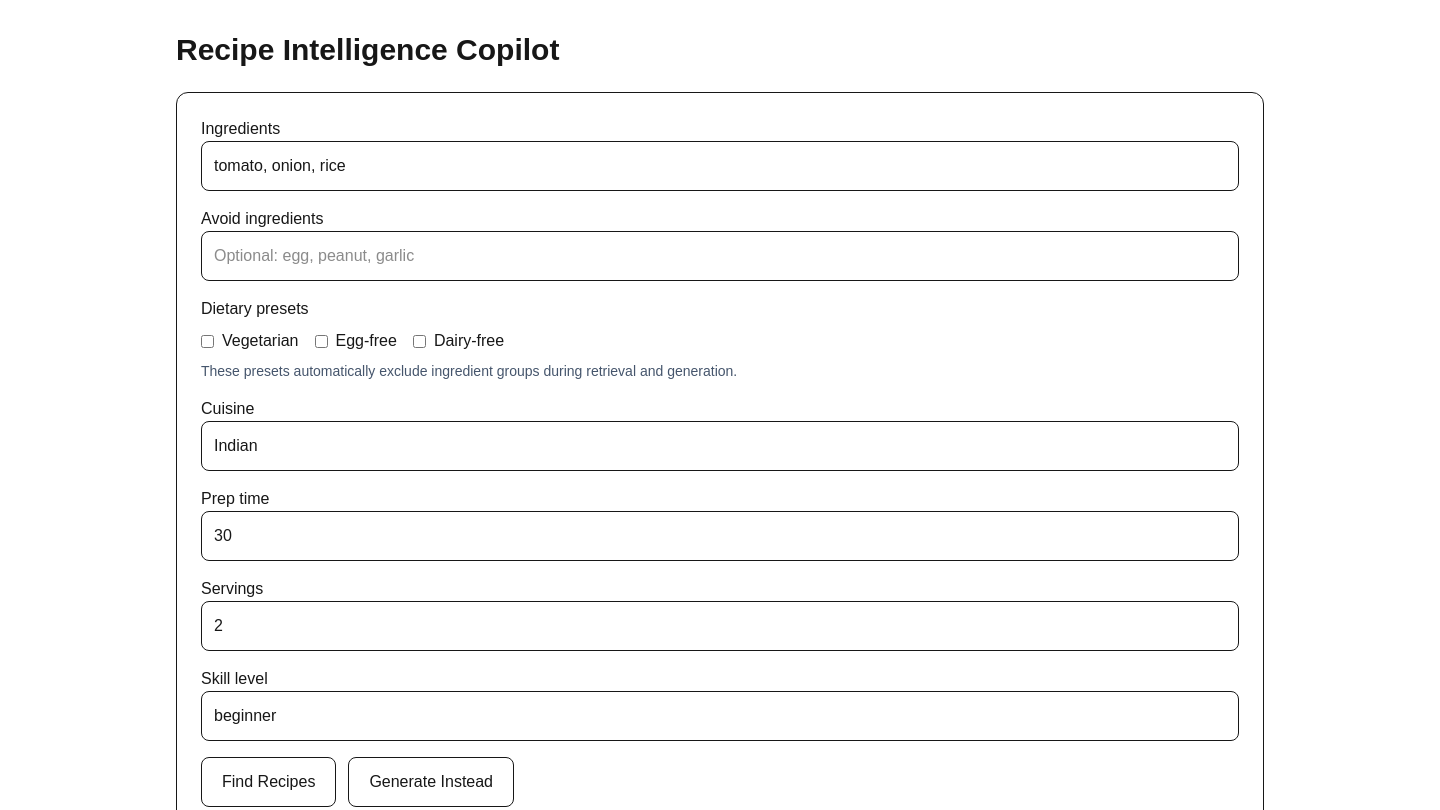
Test: Recipe page › shows template_only metadata for cheese toast
Replace the text in the field labelled "Ingredients" with "bread, cheese" at (720, 166), box [201,141,1239,191]
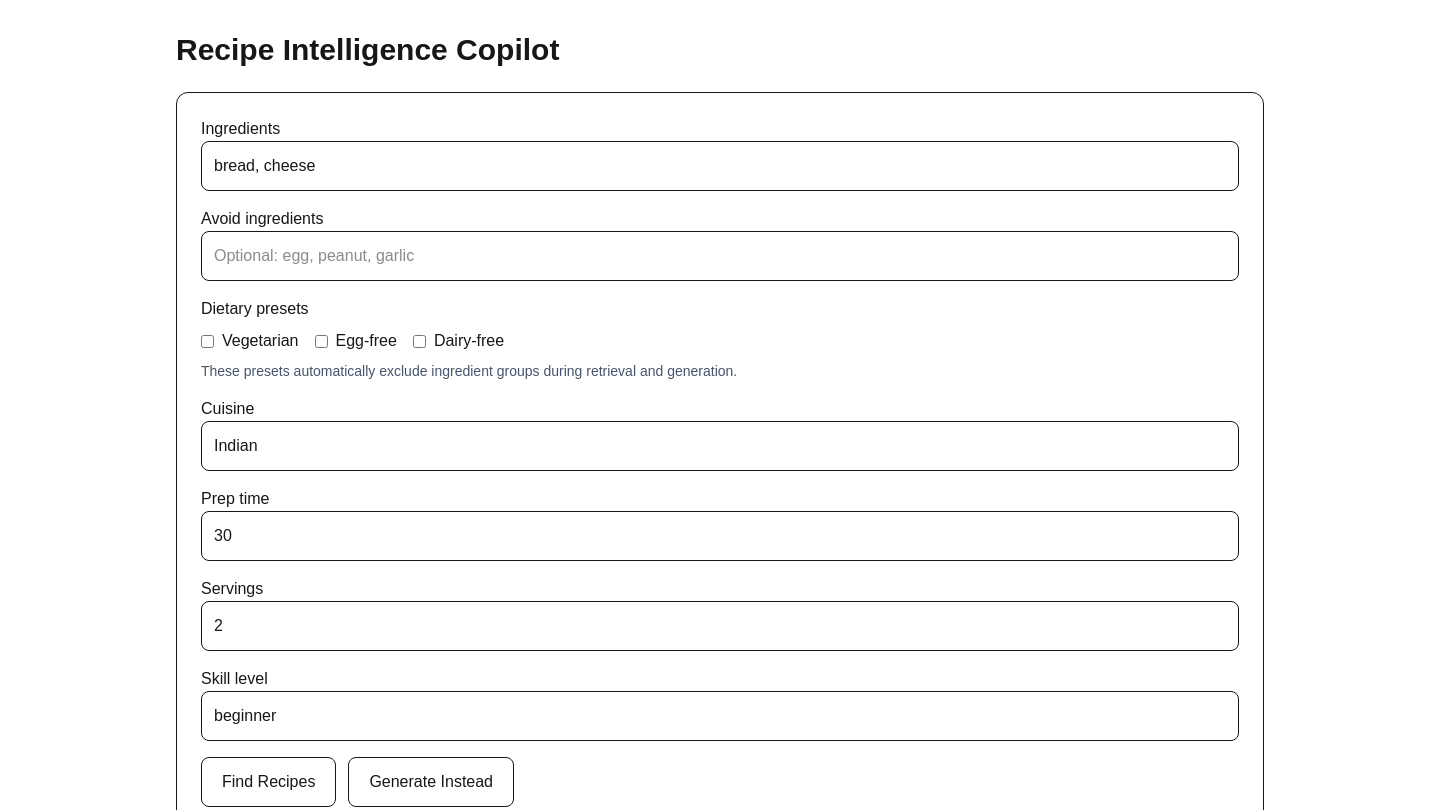
Click the button "Generate Instead" at (431, 782), box [348,757,514,807]
(page scrolled)
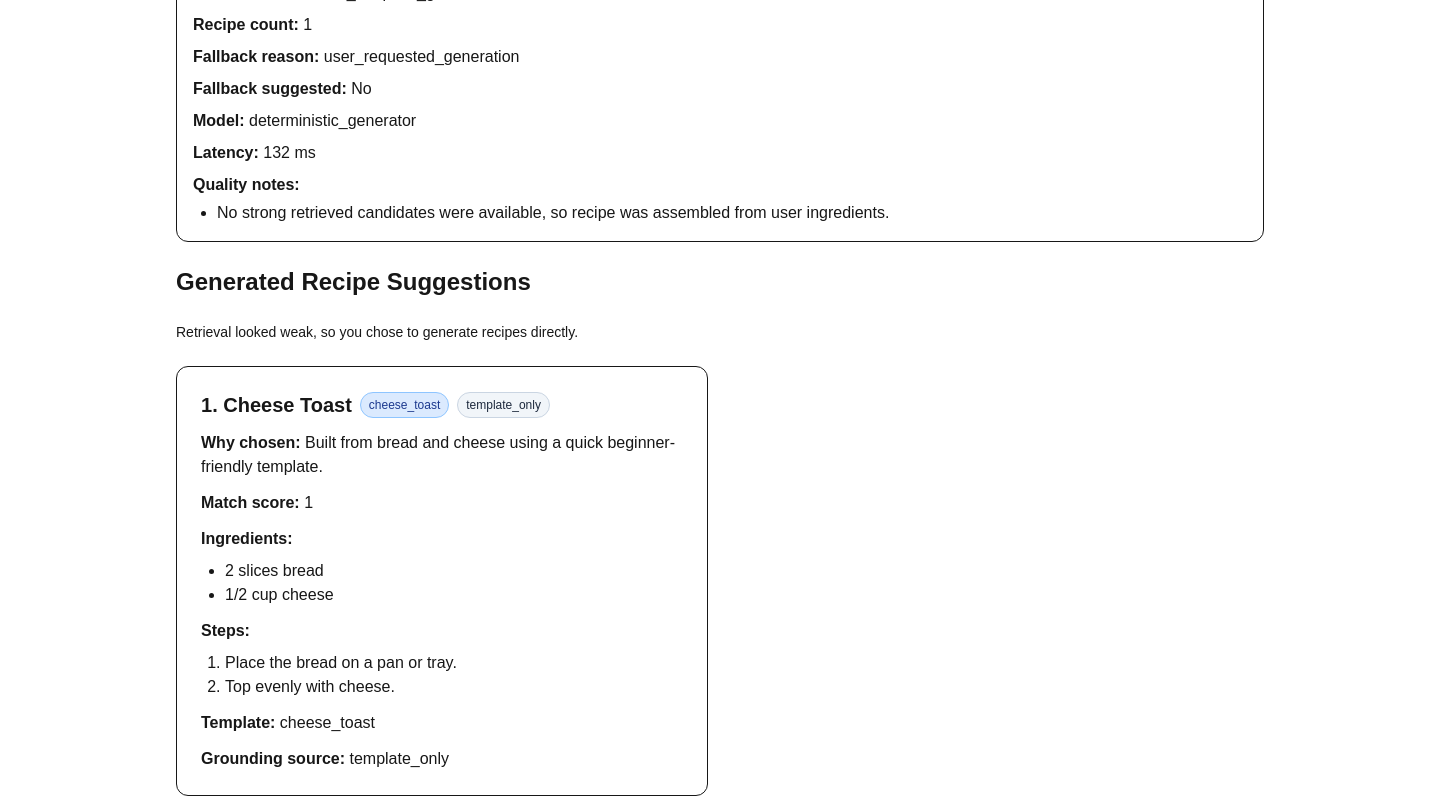
Result: the heading "1. Cheese Toast" is shown at [201,391,352,419]
